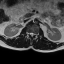CCS_normal: (31, 31, 32, 38)
LFS_normal: (34, 32, 36, 37)
LLS_normal: (32, 31, 34, 37)
RFS_normal: (28, 31, 30, 36)
RLS_normal: (29, 31, 31, 36)
